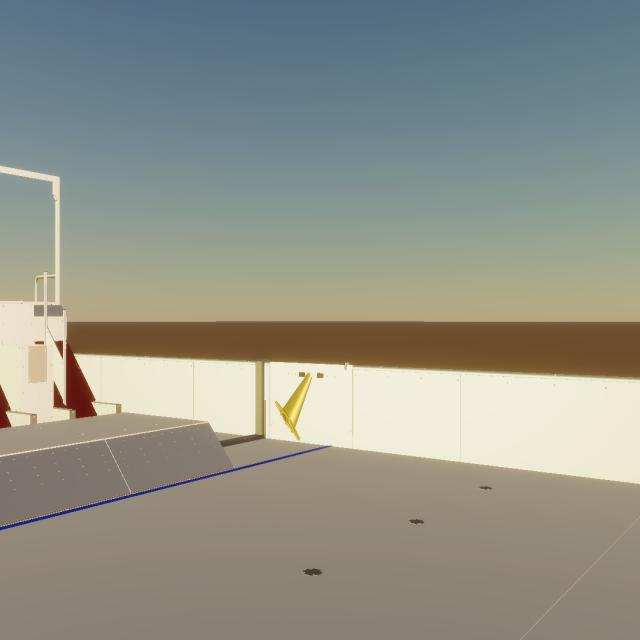frc_cone: (275, 372, 312, 441)
